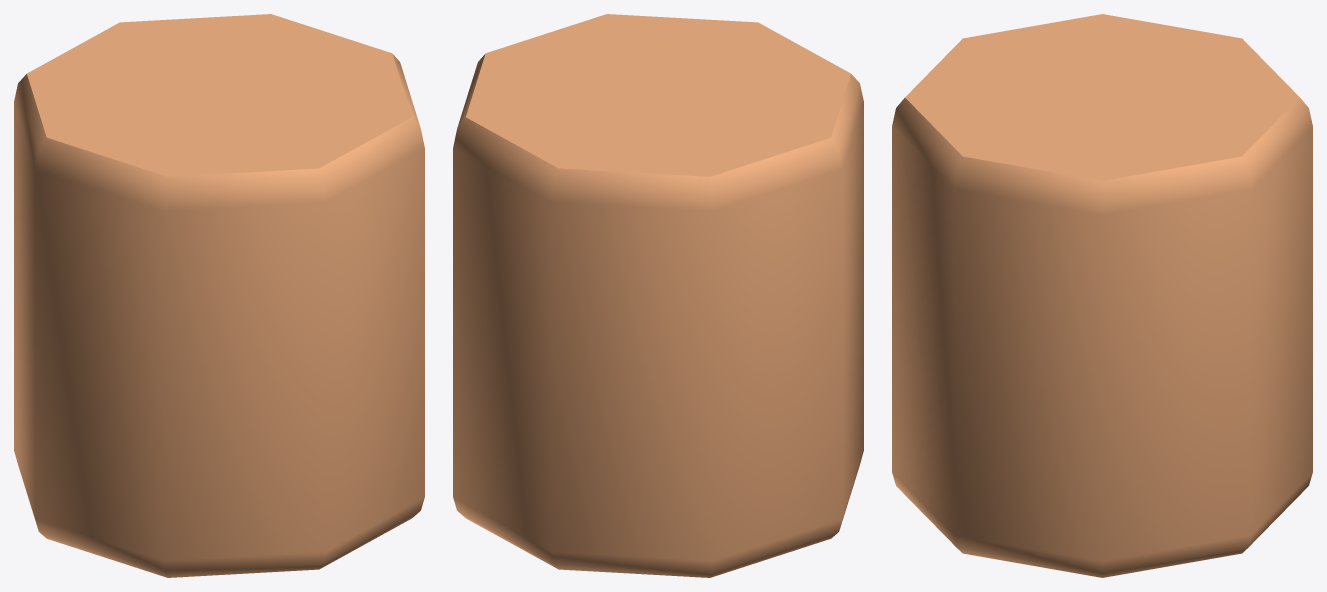
File: Marshmallow.fbx
3 renders of one model, left to right at view 1: azimuth 30°, elevation 25°; view 2: azimuth 150°, elevation 25°; view 3: azimuth 270°, elevation 25°, orthographic.
Visible parts, largest first — view 1: Cylinder004; view 2: Cylinder004; view 3: Cylinder004.
Part boxes in pixels (bbox=[...]): Cylinder004: bbox=[14, 14, 424, 577]; Cylinder004: bbox=[453, 14, 863, 577]; Cylinder004: bbox=[892, 14, 1312, 577].
Bounding box in the file's own units: 13.99 × 14.56 × 13.99.
